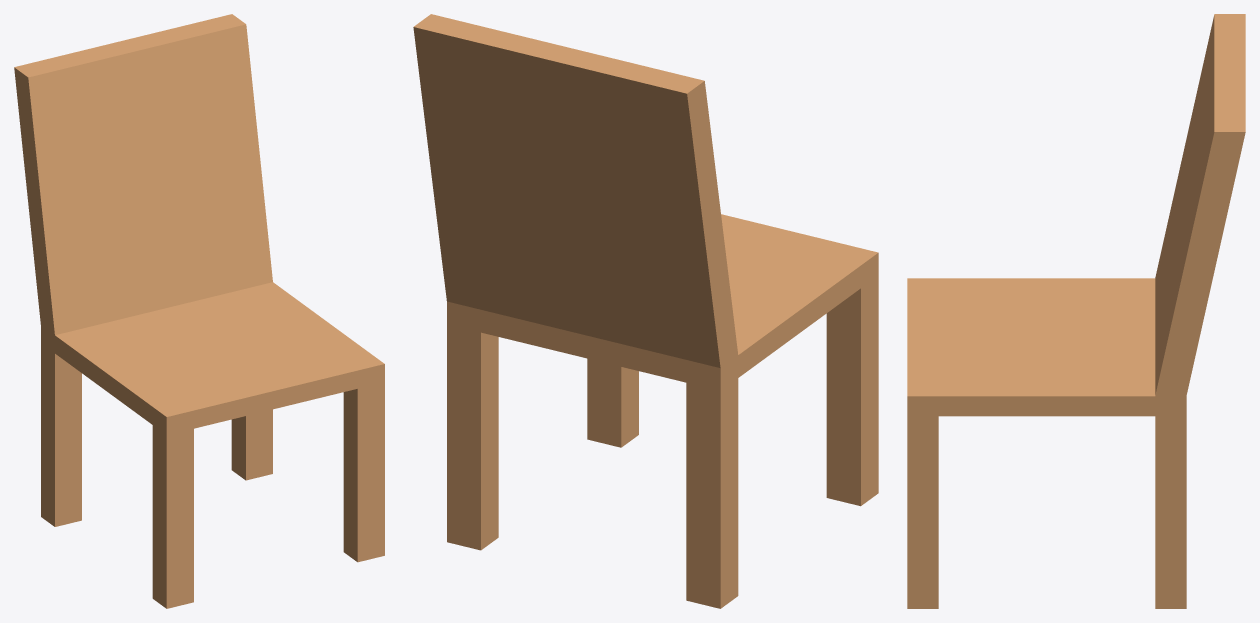
The picture shows the model from 3 angles, left to right: view 1: azimuth 30°, elevation 25°; view 2: azimuth 150°, elevation 25°; view 3: azimuth 270°, elevation 25°; orthographic projection. The views are drawn at different scales.
Visible parts, largest first — view 1: Chair; view 2: Chair; view 3: Chair.
Part boxes in pixels (x1,y1,x2,y2): Chair: [14, 14, 384, 608]; Chair: [413, 14, 878, 608]; Chair: [907, 14, 1245, 608].
Size of the model in its own units: 0.5388 by 1.02 by 0.653.
